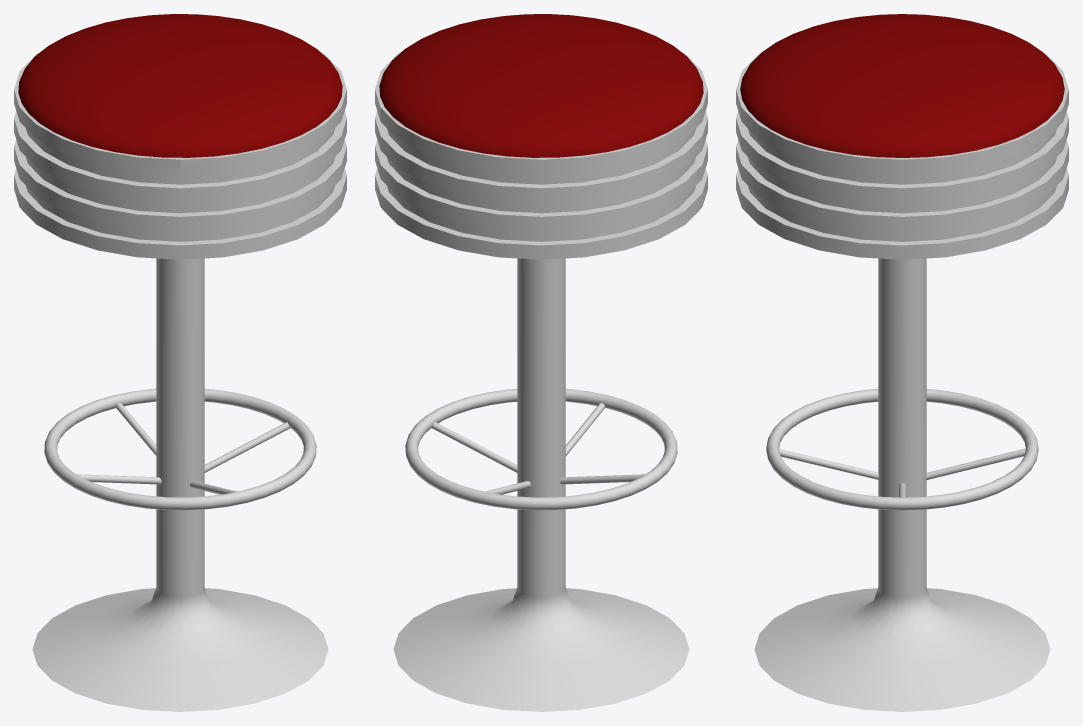
Rendered from Diner_Stool.fbx.
3 renders of one model, left to right at view 1: azimuth 30°, elevation 25°; view 2: azimuth 150°, elevation 25°; view 3: azimuth 270°, elevation 25°, orthographic.
Visible parts, largest first — view 1: pCylinder74; view 2: pCylinder74; view 3: pCylinder74.
Boxes of the visible parts, left/top/right/bottom form: pCylinder74: left=14, top=14, right=346, bottom=711; pCylinder74: left=375, top=14, right=707, bottom=711; pCylinder74: left=736, top=14, right=1068, bottom=711.
Size of the model in its own units: 27.82 by 54.65 by 27.82.
